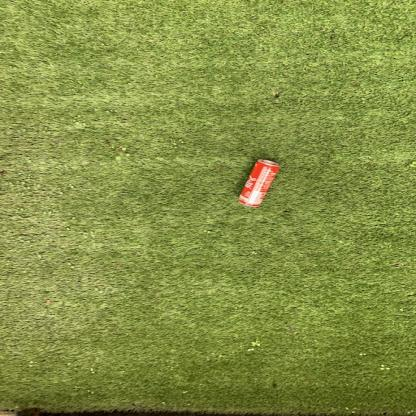trash: (234, 159, 280, 213)
